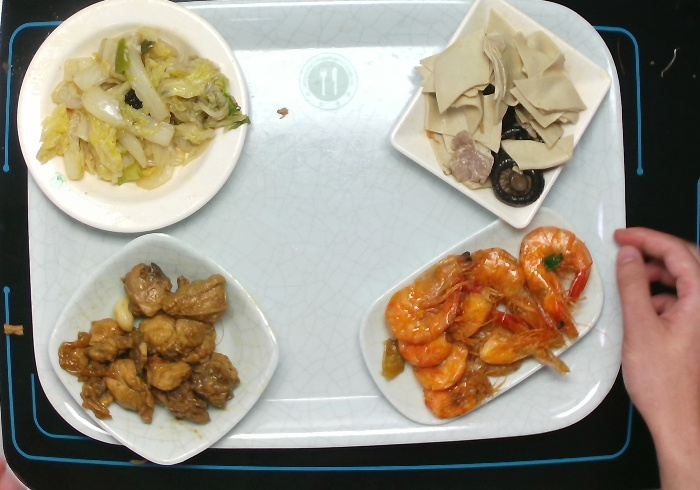WCQzf-Bai_Se_Si_Fang_Die: (388, 1, 614, 232)
WCQzf-Da_Si_Fang_Die: (45, 230, 290, 475)
WCQzf-Kuan_Bian_Yuan_Die: (12, 1, 260, 240)
WCQzf-Tuo_Yuan_Pan: (354, 202, 608, 432)
